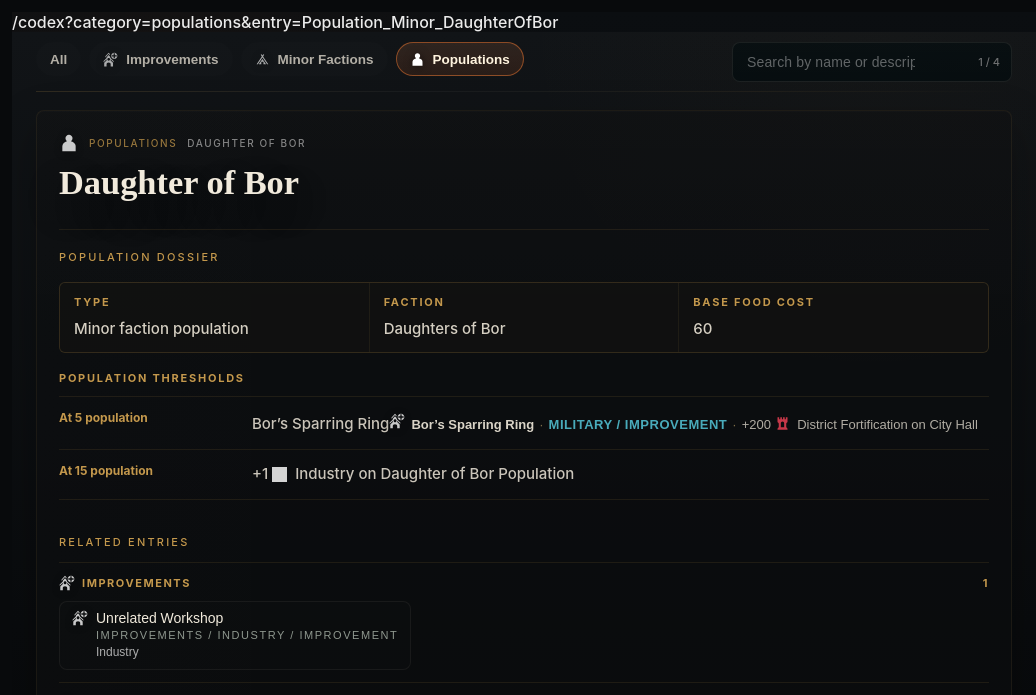
Test: CodexPage equipment and population metadata rendering › renders exact Population threshold Improvement targets as light summaries and dedupes only shown targets
The image size is (1036, 695).
Expected: the heading "Daughter of Bor" is shown, [59,163,299,201]
Expected: the button "Unrelated Workshop Improvements" is shown, [59,601,411,670]
Click the button named "Bor’s Sparring Ring Military / Improvement +200 District Fortification on City Hall" at {"x": 684, "y": 424}, box [389,411,978,437]
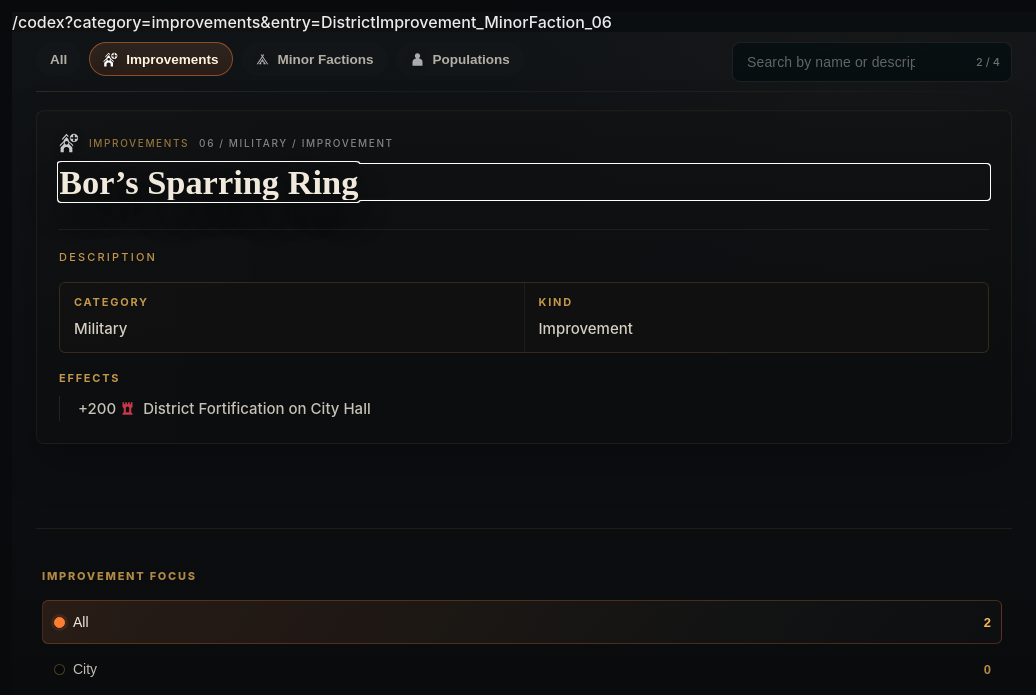
Expected: the heading "Bor’s Sparring Ring" is shown, [59,163,358,201]
Expected: the text with test id "location-probe" reads "/codex?category=improvements&entry=DistrictImprovement_MinorFaction_06", [12,12,612,32]
